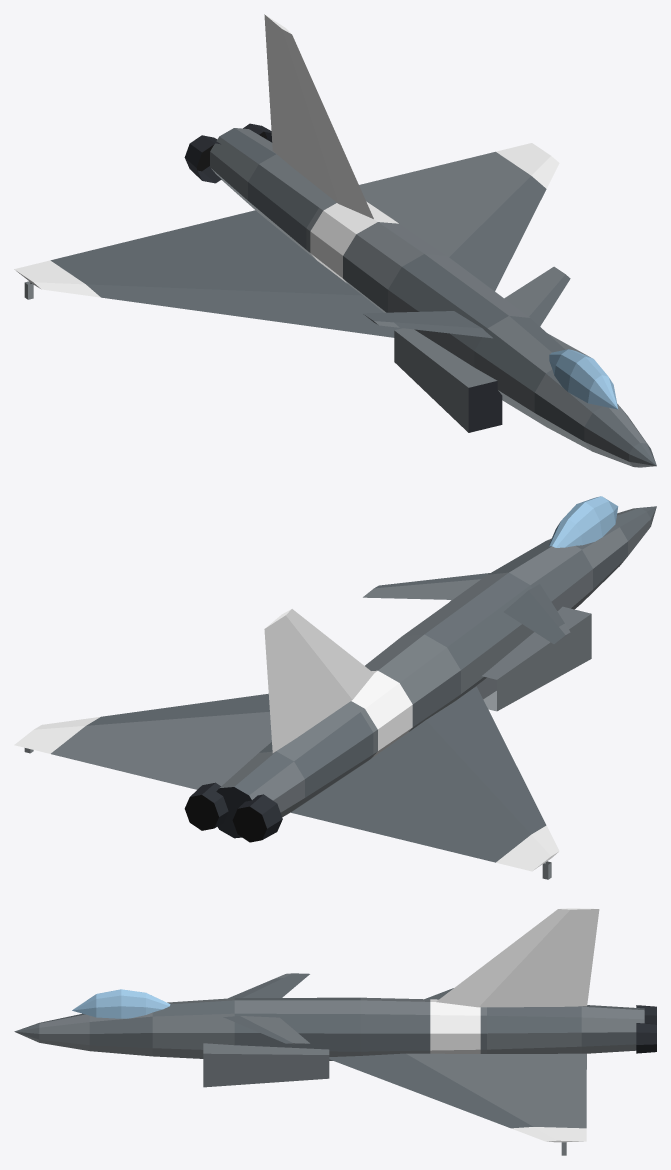
The model's file is rafale_c_lod.glb.
3 renders of one model, top to bottom at view 1: azimuth 30°, elevation 25°; view 2: azimuth 150°, elevation 25°; view 3: azimuth 270°, elevation 25°, orthographic. The views are drawn at different scales.
Visible parts, largest first — view 1: body; view 2: body; view 3: body.
Boxes of the visible parts, box(x1,y1,x2,y2) form: body: box(14, 14, 656, 467); body: box(14, 496, 656, 879); body: box(14, 908, 656, 1155).
Bounding box in the file's own units: 10.92 × 4.17 × 15.57.
